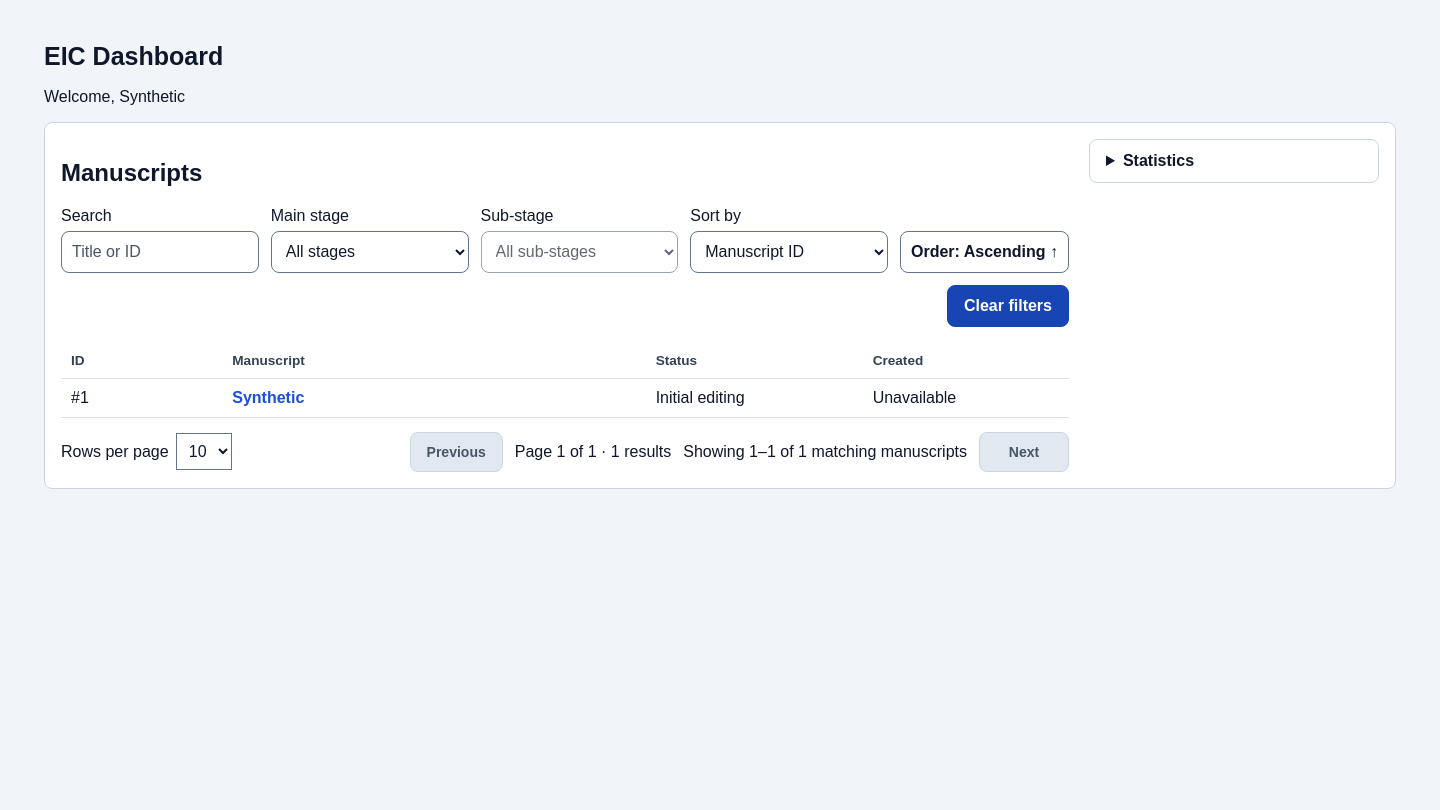
Test: only renders the current manuscript task destination (#eic-initial-review-1)
The width and height of the screenshot is (1440, 810).
Click the button with aria-label "#1 Synthetic" at (268, 398), box [232,389,304,407]
(page scrolled)
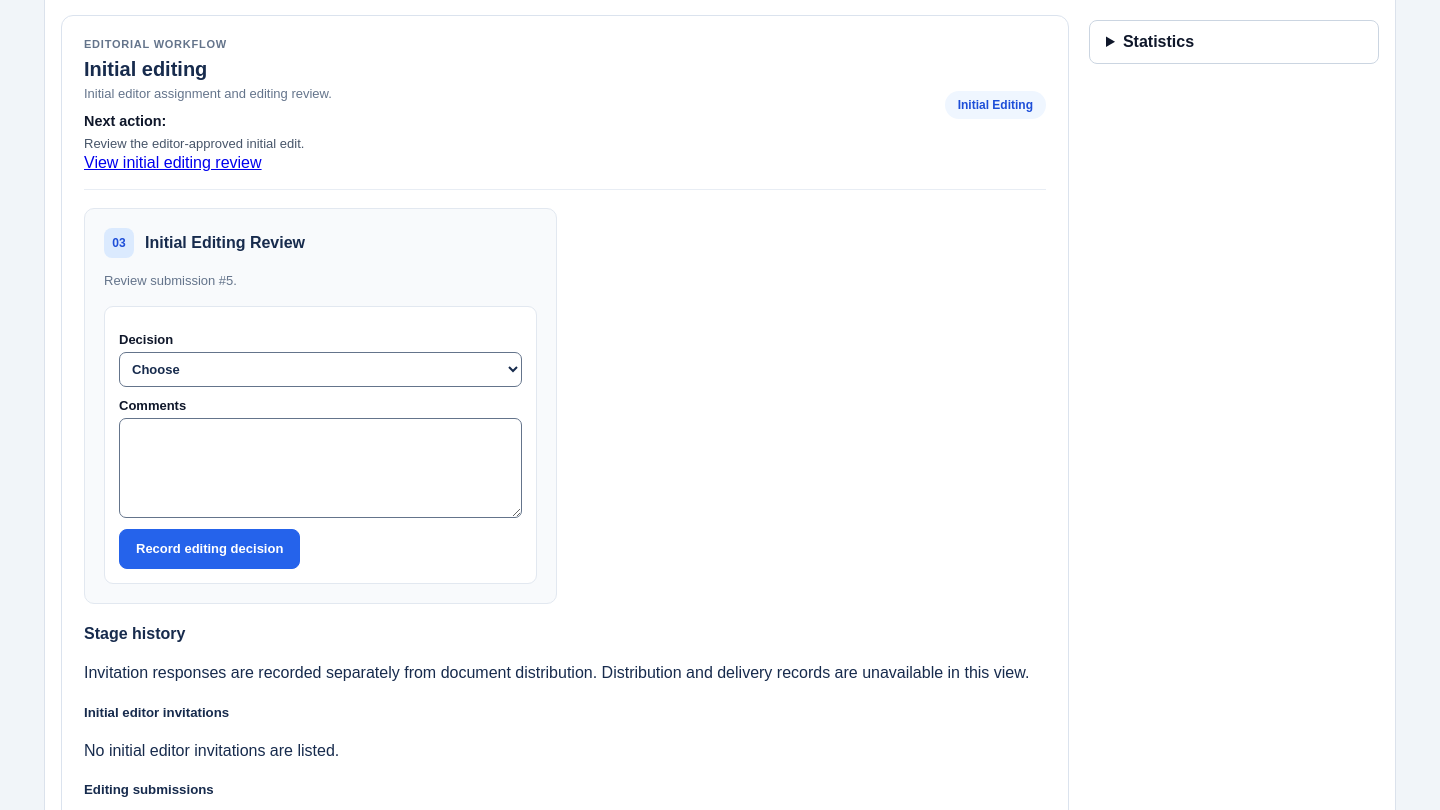
Expected: the heading "Initial Editing Review" is shown, [145,234,305,252]
Expected: the element with id "eic-initial-review-1" is shown, [84,208,557,604]
